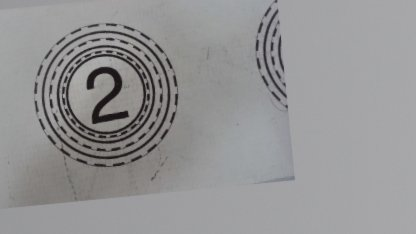2r: (23, 18, 183, 173)
